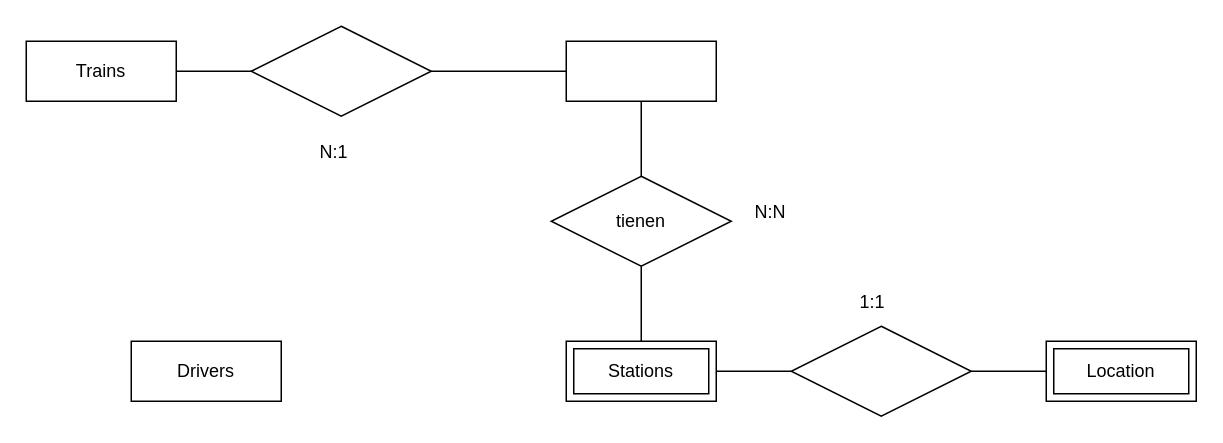
Some shapes in this 1223 by 443 pixel diagram are drawn without their labels. The centre of each missing label's shape, as x and y in pixels:
"esta" goes at [880,370].
"estan" goes at [340,70].
"Lines" goes at [640,70].
